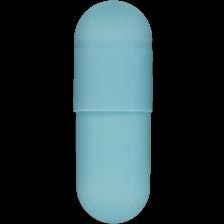65862-585: (0, 0, 224, 224)
